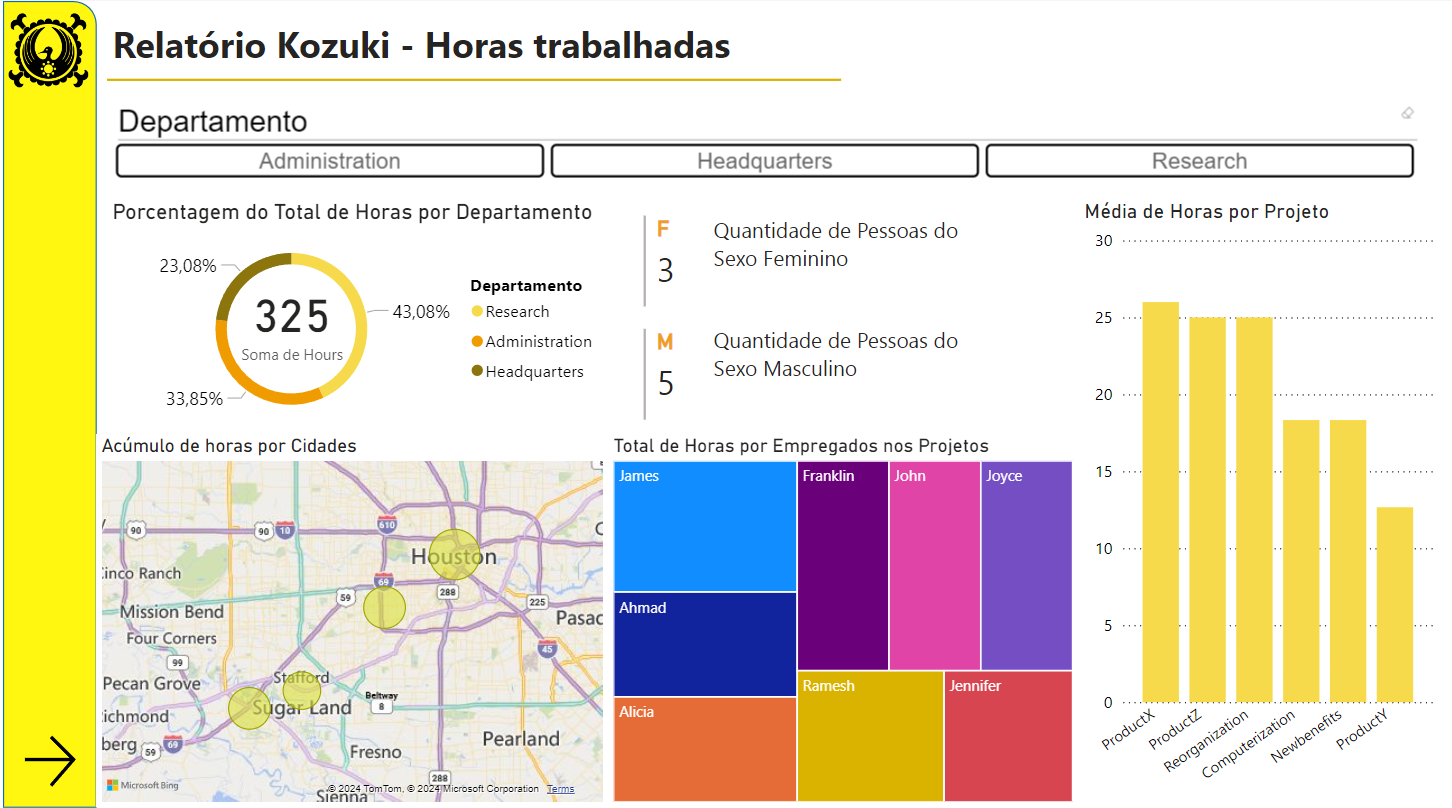

What the dashboard file says about the page in this screenshot:
{"tool":"powerbi","page":{"name":"Página 1","canvas":[1280,720],"ordinal":0},"visuals":[{"type":"textbox","box":[93.2,11,787,60.3],"z":0},{"type":"shape","box":[0,0,83.6,719.8],"z":1000},{"type":"actionButton","box":[4.1,649.9,74,57.6],"z":2000},{"type":"image","box":[0,0,80.9,87.7],"z":3000},{"type":"shape","box":[93.2,49.4,655.4,42.5],"z":4000},{"type":"ChicletSlicer1448559807354","fields":{"Category":["company_departament.Dname"]},"box":[93.1,87.5,1173.6,88.9],"z":5000},{"type":"map","title":"Acúmulo de horas por Cidades","fields":{"Size":["company_works_on.Hours"],"Category":["company_dept_locations.Mesclado"]},"box":[83.3,386.1,456.9,333.3],"z":6000},{"type":"donutChart","title":"Porcentagem do Total de Horas por Departamento","fields":{"Category":["company_departament.Dname"],"Y":["company_works_on.Hours"]},"box":[93.2,176.9,447,209.8],"z":6001},{"type":"multiRowCard","fields":{"Values":["company_employee.Sex","company_employee.Sex"]},"box":[566.2,186.5,63.1,223.5],"z":6002},{"type":"treemap","title":"Total de Horas por Empregados nos Projetos","fields":{"Group":["company_employee.Fname"],"Values":["company_works_on.Hours"]},"box":[540.2,386.6,419.5,333.2],"z":6003},{"type":"textbox","box":[629.2,186.1,251.4,68.1],"z":6004},{"type":"textbox","box":[629.2,284.7,251.4,59.7],"z":6005},{"type":"columnChart","title":"Média de Horas por Projeto","fields":{"Category":["company_project.Pname"],"Y":["company_works_on.Hours"]},"box":[959.7,176.9,320.8,542.9],"z":6006},{"type":"card","fields":{"Values":["company_works_on.Hours"]},"box":[200.2,238.6,116.5,93.2],"z":6007}]}

Visuals, with their boxes in screenshot pixels (x1, y1, x2, y2), scaled from the page's 1280x720 canvas onto the 1452x808 screenshot:
textbox: Rect(106, 12, 998, 80)
shape: Rect(0, 0, 95, 807)
actionButton: Rect(5, 729, 89, 794)
image: Rect(0, 0, 92, 98)
shape: Rect(106, 55, 849, 103)
ChicletSlicer1448559807354 - company_departament.Dname: Rect(106, 98, 1437, 198)
"Acúmulo de horas por Cidades" map: Rect(94, 433, 613, 807)
"Porcentagem do Total de Horas por Departamento" donutChart: Rect(106, 199, 613, 434)
multiRowCard - company_employee.Sex x company_employee.Sex: Rect(642, 209, 714, 460)
"Total de Horas por Empregados nos Projetos" treemap: Rect(613, 434, 1089, 807)
textbox: Rect(714, 209, 999, 285)
textbox: Rect(714, 319, 999, 386)
"Média de Horas por Projeto" columnChart: Rect(1089, 199, 1451, 807)
card - company_works_on.Hours: Rect(227, 268, 359, 372)
